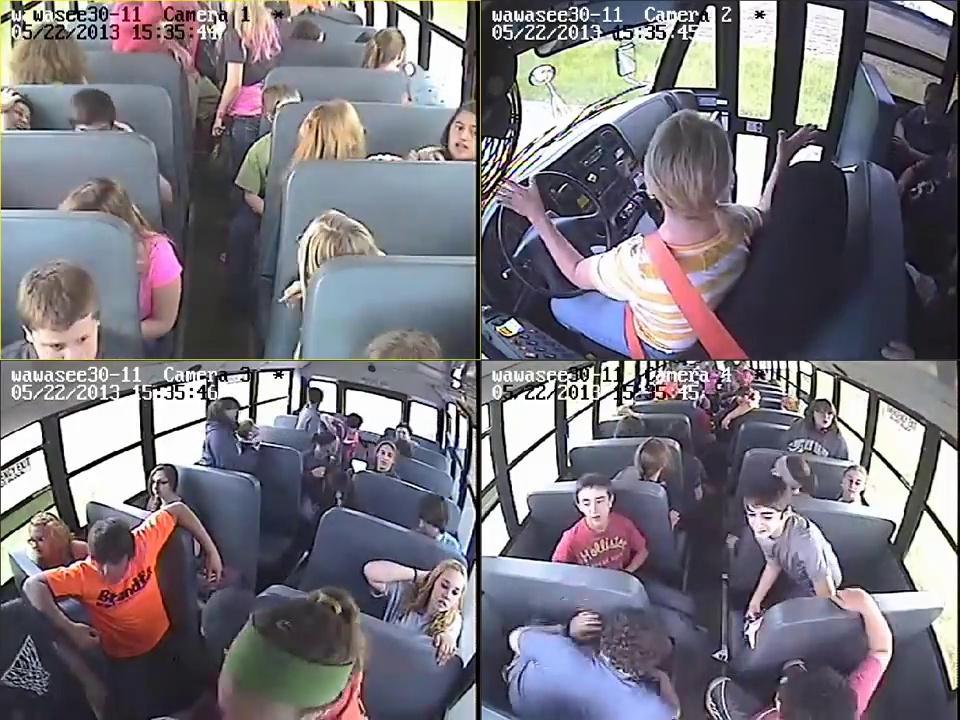face: (37, 324, 94, 358), (430, 564, 462, 612), (575, 488, 613, 527), (449, 113, 481, 156), (748, 500, 781, 540), (2, 99, 31, 132), (28, 526, 47, 561), (151, 471, 171, 496), (815, 404, 834, 428), (844, 474, 862, 495), (378, 443, 391, 470), (396, 426, 410, 441)
